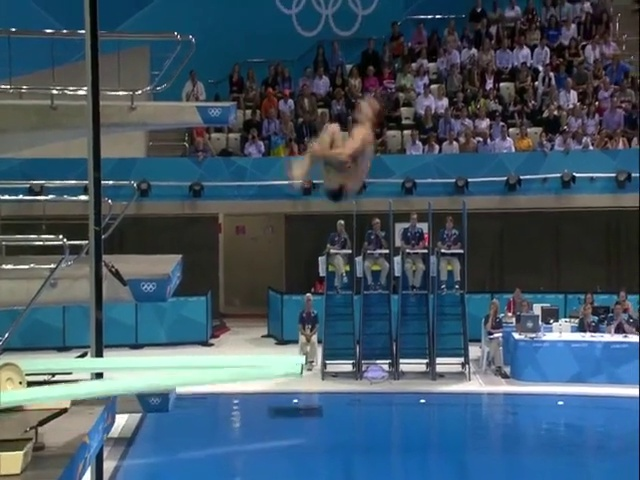diver: (287, 95, 384, 203)
